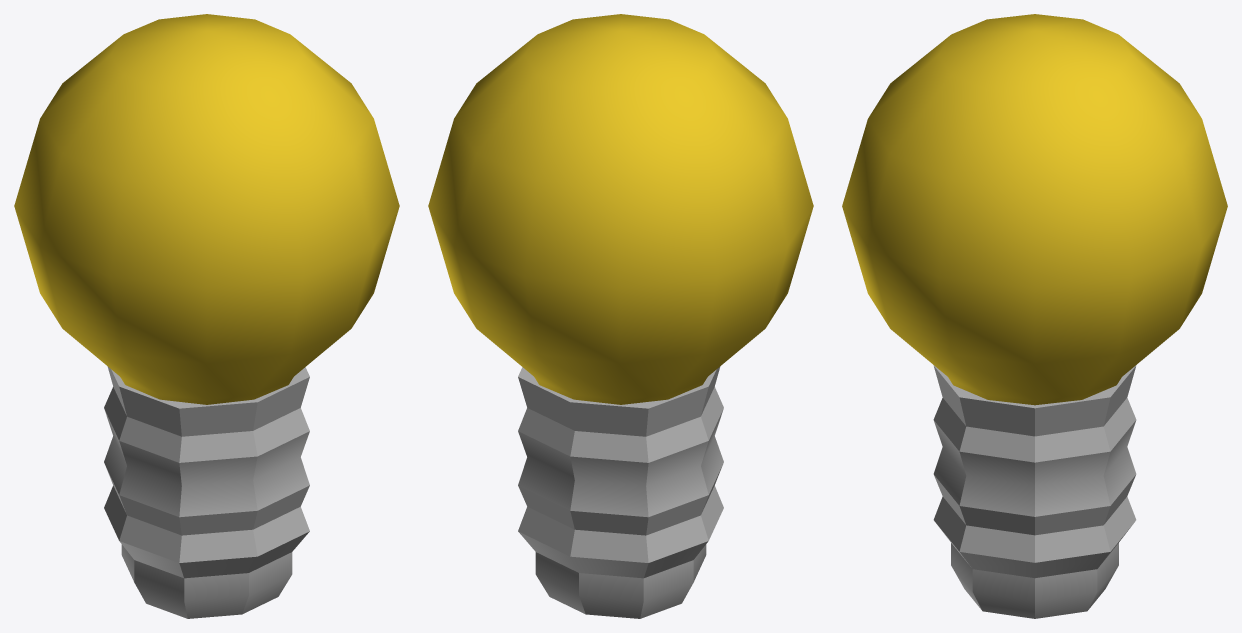
The model's file is lampu.fbx.
3 renders of one model, left to right at view 1: azimuth 30°, elevation 25°; view 2: azimuth 150°, elevation 25°; view 3: azimuth 270°, elevation 25°, orthographic.
Visible parts, largest first — view 1: Sphere, Cube.002; view 2: Sphere, Cube.002; view 3: Sphere, Cube.002.
Part boxes in pixels (x1,y1,x2,y2): Sphere: (14,14,399,404); Cube.002: (104,366,309,618); Sphere: (428,14,813,404); Cube.002: (518,366,723,618); Sphere: (842,14,1227,405); Cube.002: (933,365,1136,618).
Bounding box in the file's own units: 95.85 × 153 × 95.85.
